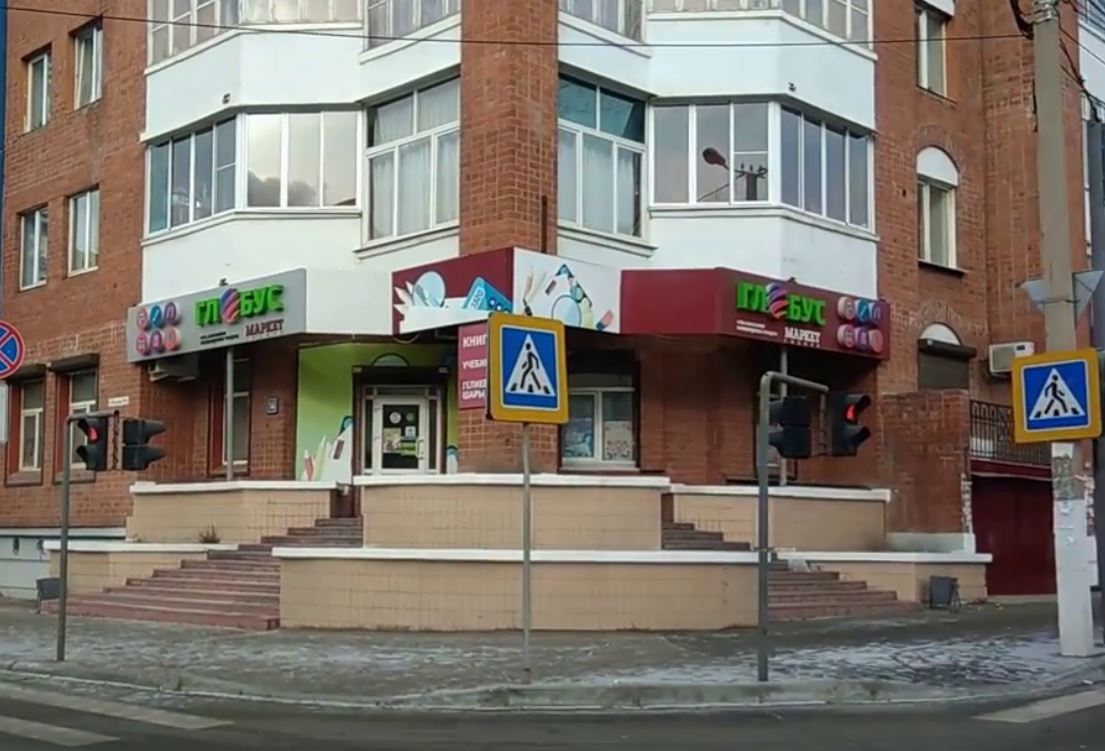Yaya Gecidi: (503, 329, 558, 410), (1024, 367, 1087, 429)
